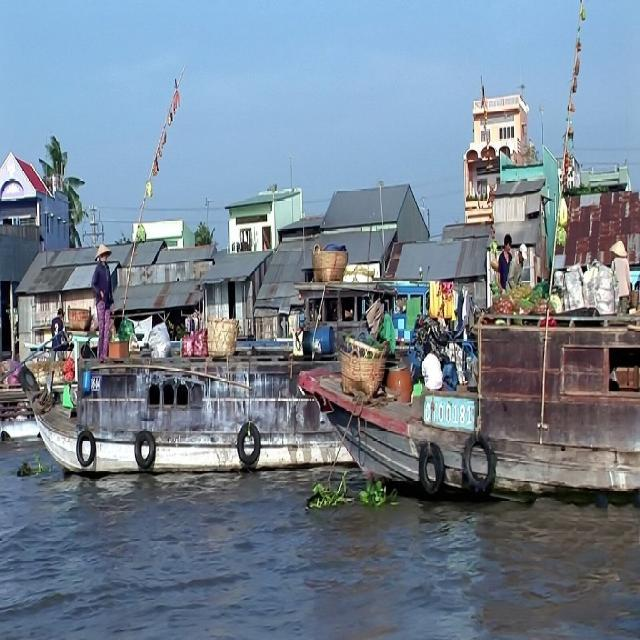Hyacinth: (295, 466, 385, 508), (8, 453, 48, 476)
boat: (302, 288, 640, 509), (22, 383, 374, 479)
